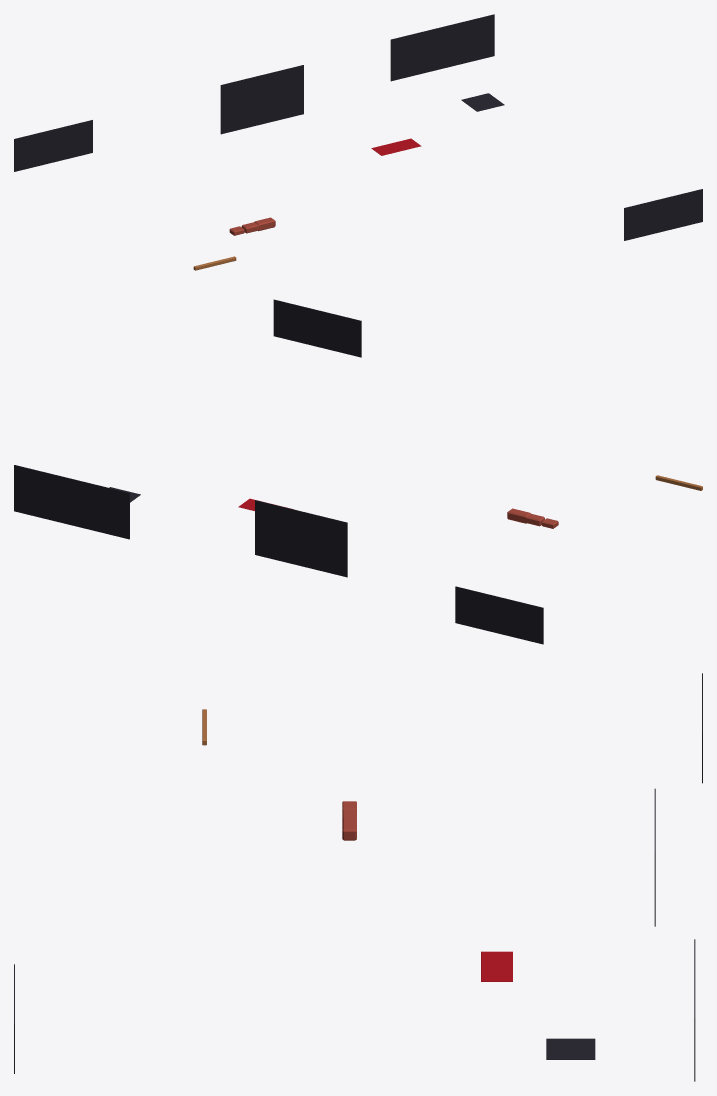
The model's file is D-RES.w3.glb.
3 views of the same model, one above another, from view 1: azimuth 30°, elevation 25°; view 2: azimuth 150°, elevation 25°; view 3: azimuth 270°, elevation 25° (orthographic). The views are drawn at different scales.
Parts seen in each view (by area): view 1: pal_uiDark, pal_brick.002, pal_blood.001; view 2: pal_uiDark, pal_brick.002; view 3: pal_uiDark, pal_blood.001.
Part boxes in pixels (bbox=[...]): pal_uiDark: bbox=[14, 14, 702, 240]; pal_brick.002: bbox=[229, 217, 275, 235]; pal_blood.001: bbox=[371, 138, 421, 155]; pal_uiDark: bbox=[14, 299, 543, 644]; pal_brick.002: bbox=[507, 508, 558, 528]; pal_uiDark: bbox=[14, 673, 702, 1081]; pal_blood.001: bbox=[481, 951, 512, 981].
Size of the model in its own units: 34.62 by 3.93 by 28.03.
